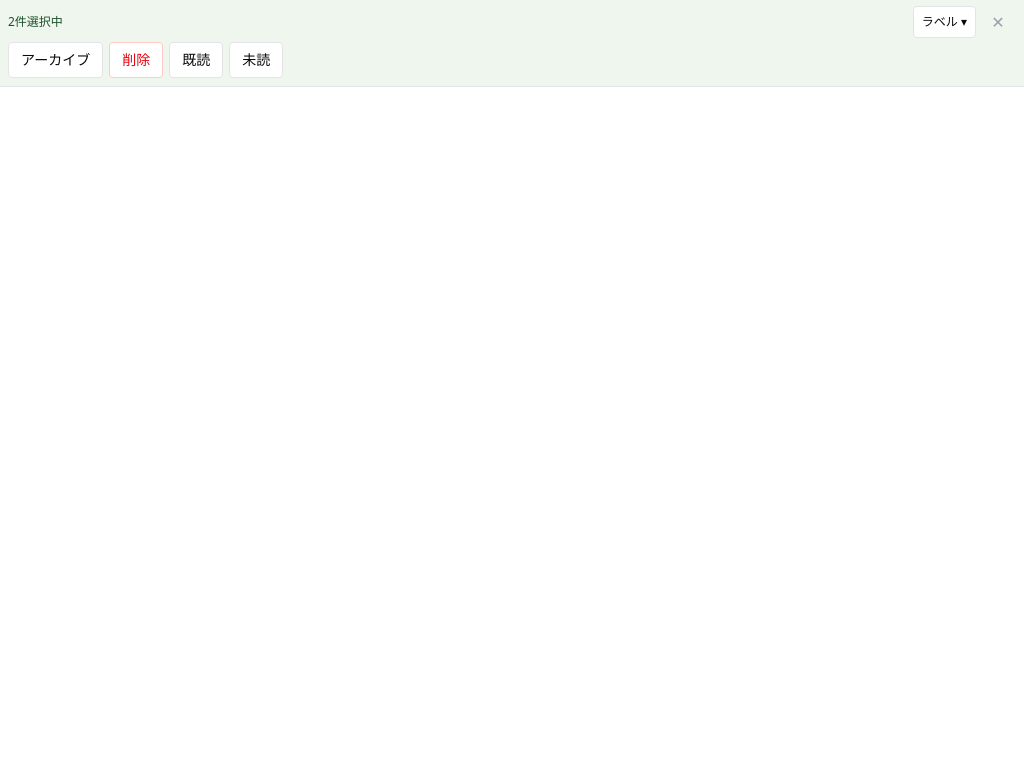
BulkActionBar › 削除確認ダイアログ › 削除ボタンを押すと確認ダイアログが表示される
Click the button "削除" at (136, 60), box top-left (109, 42), bottom-right (163, 78)
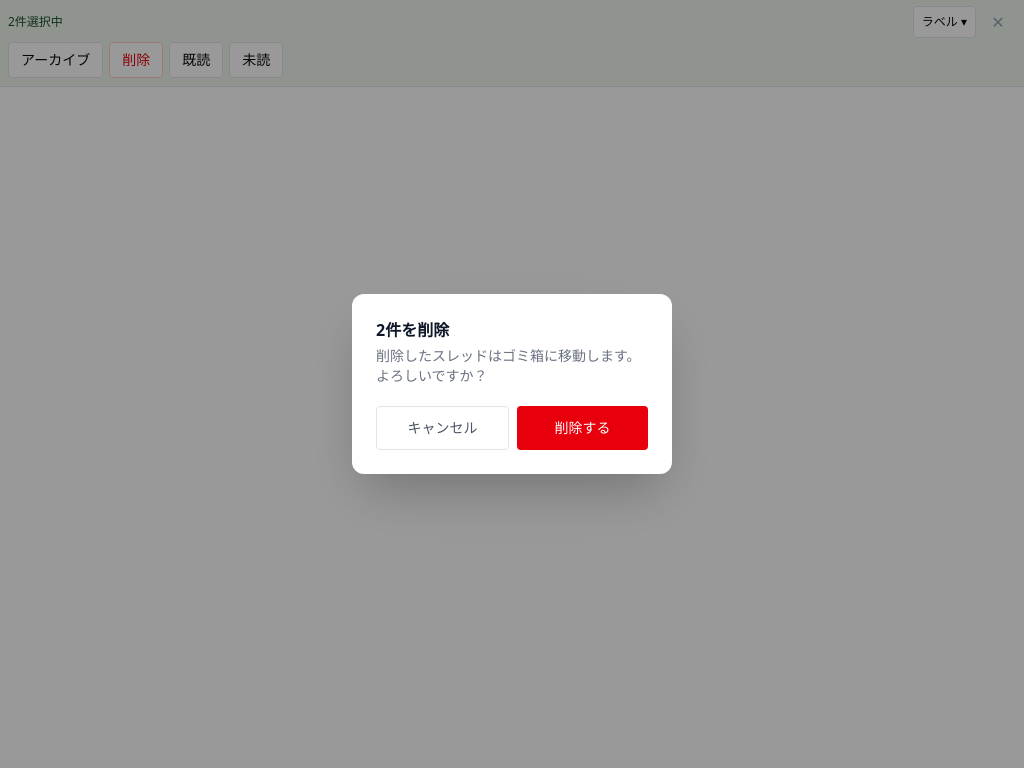
Now the element showing "2件を削除 削除したスレッドはゴミ箱に移動します。よろしいですか？ キャンセル 削除する" is shown
Now the text "削除する" is shown, box top-left (517, 406), bottom-right (648, 450)
Now the text "キャンセル" is shown, box top-left (376, 406), bottom-right (509, 450)
